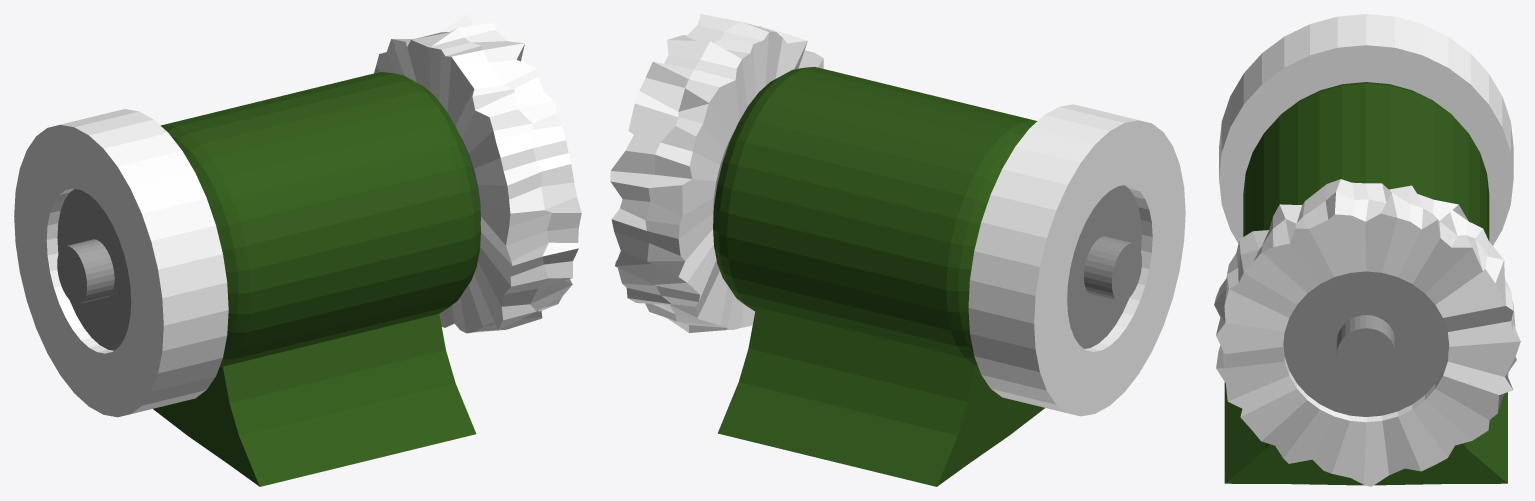
File: grinder.glb
3 views of the same model, side by side, from view 1: azimuth 30°, elevation 25°; view 2: azimuth 150°, elevation 25°; view 3: azimuth 270°, elevation 25° (orthographic). The views are drawn at different scales.
Parts seen in each view (by area): view 1: grinder_base, grinder_grind, grinder_polish; view 2: grinder_base, grinder_grind, grinder_polish; view 3: grinder_polish, grinder_base, grinder_grind.
Boxes of the visible parts, <box> form: grinder_base: <box>153,72,480,486</box>; grinder_grind: <box>14,109,228,417</box>; grinder_polish: <box>374,14,581,333</box>; grinder_base: <box>713,67,1044,486</box>; grinder_grind: <box>968,104,1185,416</box>; grinder_polish: <box>610,14,823,332</box>; grinder_polish: <box>1214,179,1520,486</box>; grinder_base: <box>1224,82,1507,485</box>; grinder_grind: <box>1219,14,1513,245</box>.
Size of the model in its own units: 2.69 by 1.89 by 1.62.
